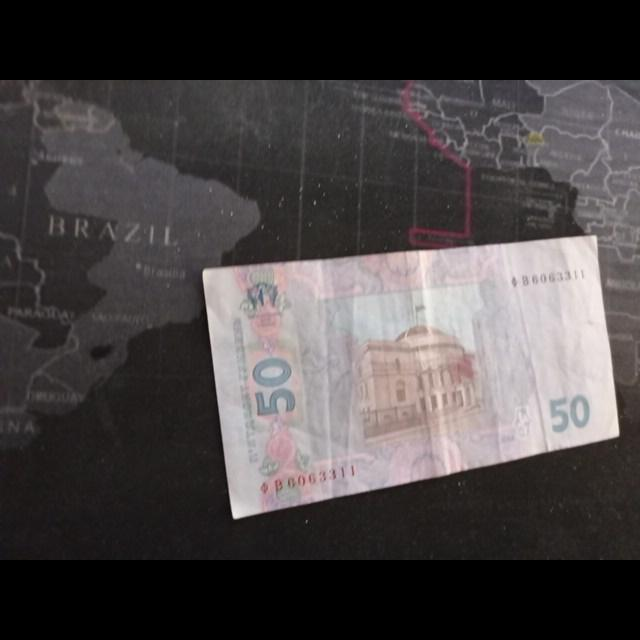50uah: (200, 255, 618, 453)
